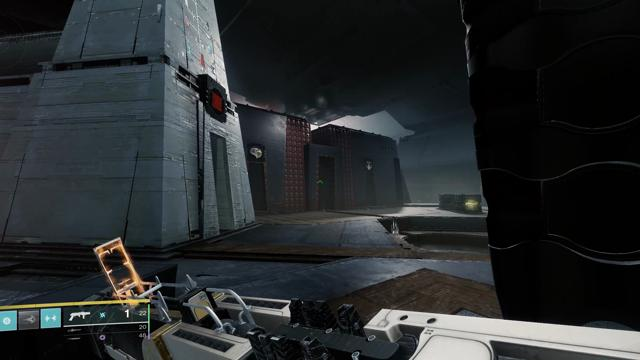brain: (249, 145, 263, 160)
drink: (365, 159, 373, 171)
stop: (209, 87, 225, 116)
